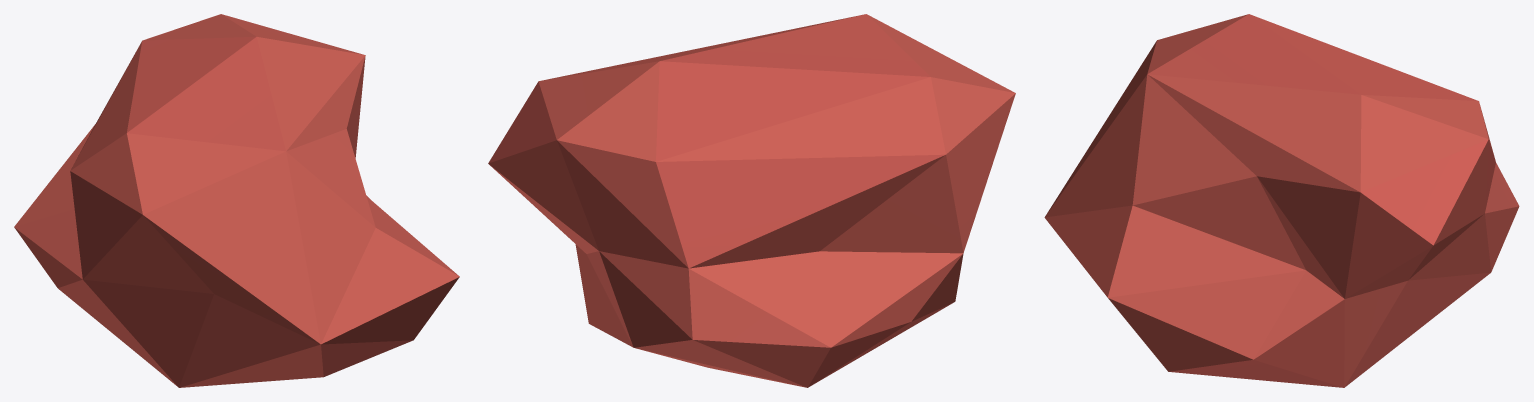
Rendered from redrock2.fbx.
3 renders of one model, left to right at view 1: azimuth 30°, elevation 25°; view 2: azimuth 150°, elevation 25°; view 3: azimuth 270°, elevation 25°, orthographic. The views are drawn at different scales.
Visible parts, largest first — view 1: rock.014; view 2: rock.014; view 3: rock.014.
Boxes of the visible parts, x1,y1,x2,y2 form: rock.014: [14, 14, 459, 387]; rock.014: [488, 14, 1015, 387]; rock.014: [1044, 14, 1519, 387].
Size of the model in its own units: 180 by 149 by 218.
